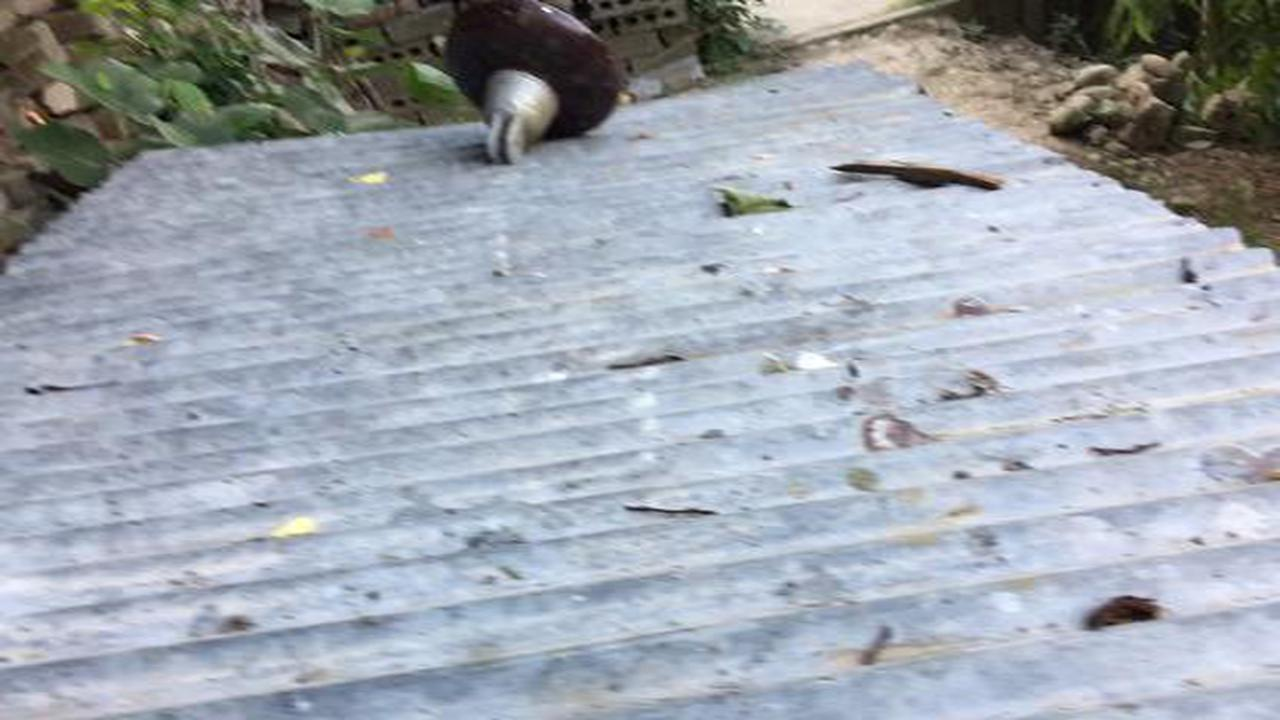insulator_disc: (439, 1, 624, 172)
